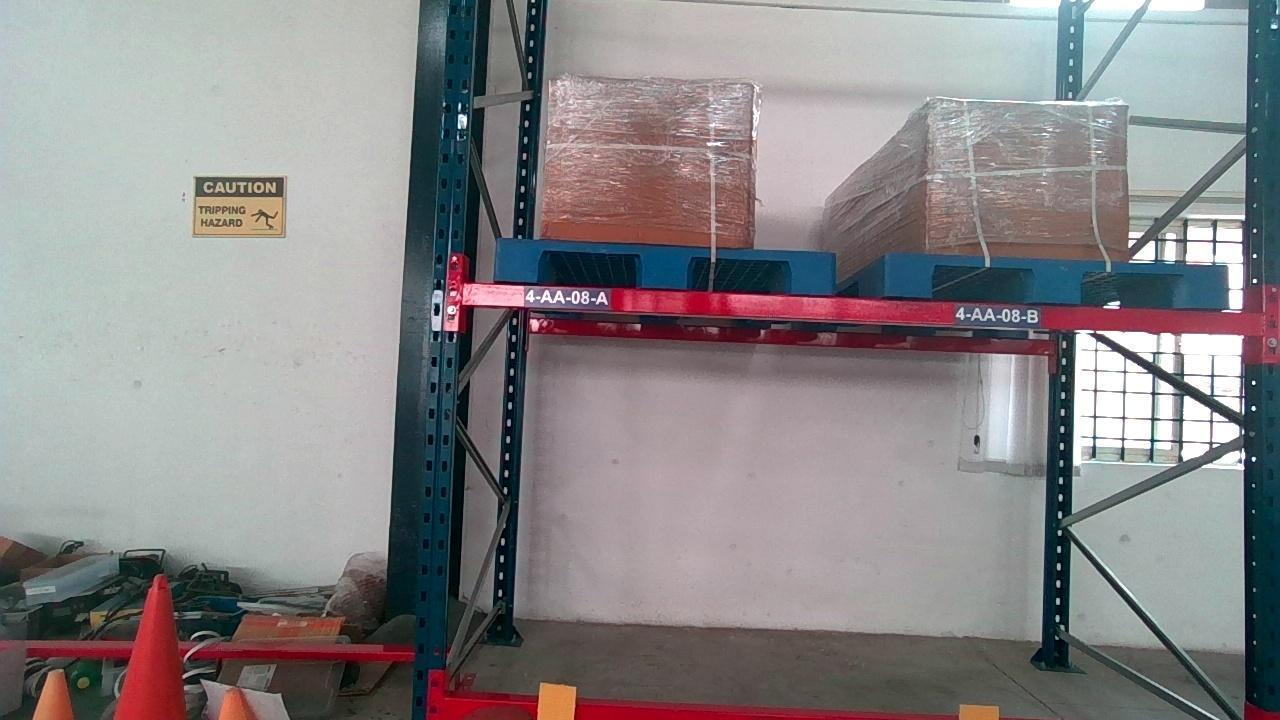h_rack: (456, 283, 1252, 336)
orange_strip: (534, 683, 578, 720)
small_pallet: (492, 240, 833, 286), (891, 256, 1223, 303)
